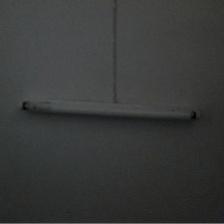light_bulb: (16, 97, 203, 124)
